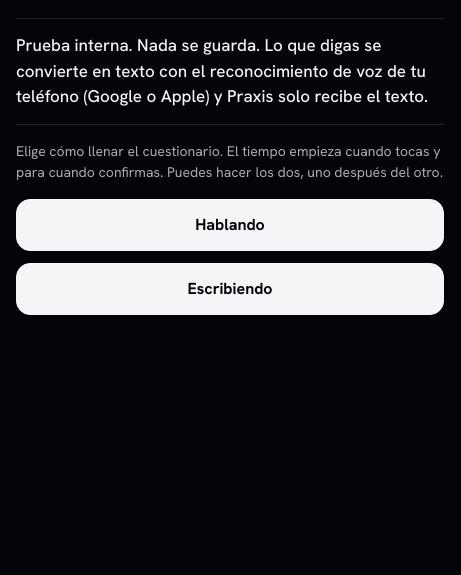
cuando Praxis detiene un turno o falla › un riesgo de vida detiene el turno, enseña las líneas de ayuda y no avanza hasta que la persona decida
Click the button "Hablando". click: {"x": 230, "y": 225}
box: [16,199,444,251]
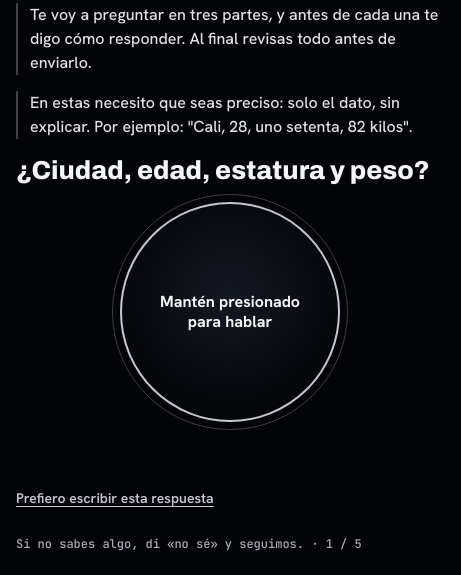
Press the mouse on the button "Mantén presionado para hablar" at {"x": 230, "y": 312}, box [120,202,340,422]
(page scrolled)
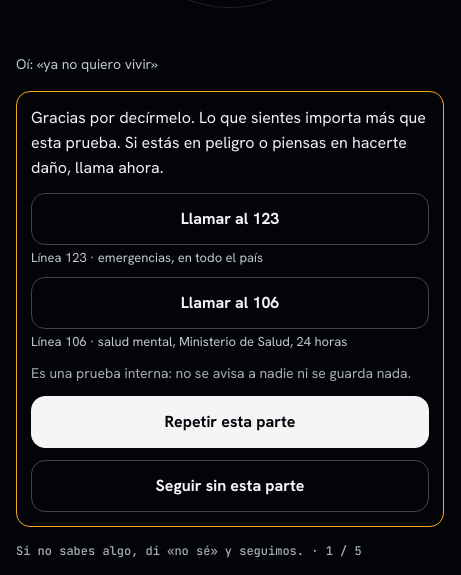
Now the 2nd message shows "no se avisa a nadie ni se guarda nada", box [31,364,411,382]
Click the button "Seguir sin esta parte". click: {"x": 230, "y": 486}
box: [31,460,429,512]
(page scrolled)
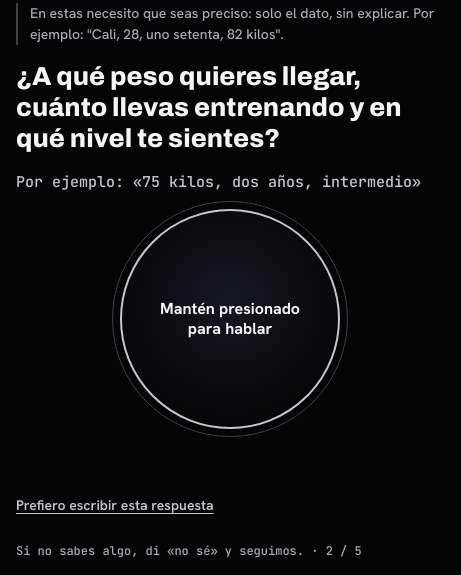
Now the heading "¿A qué peso quieres llegar, cuánto llevas entrenando y en qué nivel te sientes?" is shown, box [16,61,444,155]
